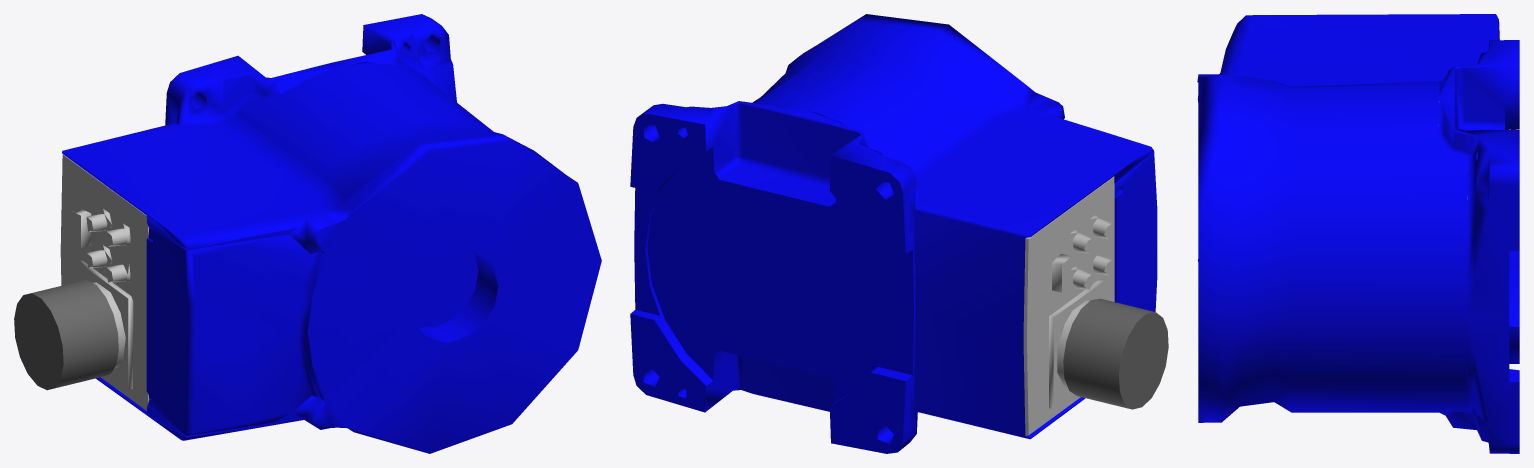
3 renders of one model, left to right at view 1: azimuth 30°, elevation 25°; view 2: azimuth 150°, elevation 25°; view 3: azimuth 270°, elevation 25°, orthographic. The views are drawn at different scales.
Visible parts, largest first — view 1: base_link.dae (×6); view 2: base_link.dae (×7); view 3: base_link.dae (×3).
Part boxes in pixels (box(x1,y1,x2,y2)): base_link.dae (×6): box(14, 14, 601, 453); base_link.dae (×7): box(630, 14, 1168, 453); base_link.dae (×3): box(1197, 14, 1519, 453).
Bounding box in the file's own units: 0.269 × 0.1674 × 0.1556.
